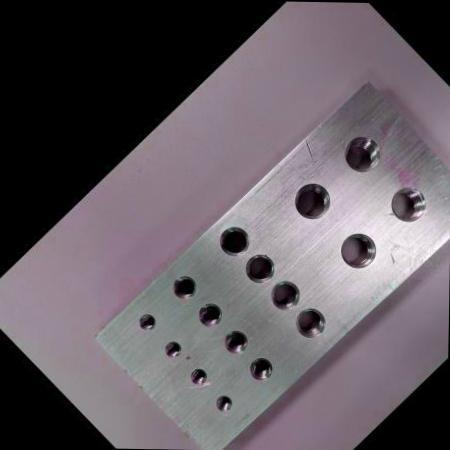hole: (285, 174, 340, 229), (336, 127, 391, 182), (332, 224, 385, 278), (383, 178, 436, 232), (212, 218, 257, 264), (237, 247, 282, 292), (289, 301, 333, 346), (264, 274, 308, 318), (166, 269, 204, 307), (218, 323, 255, 362), (192, 298, 229, 334), (243, 351, 279, 387), (186, 364, 212, 390), (134, 310, 160, 336), (212, 391, 237, 417), (161, 337, 186, 362)
